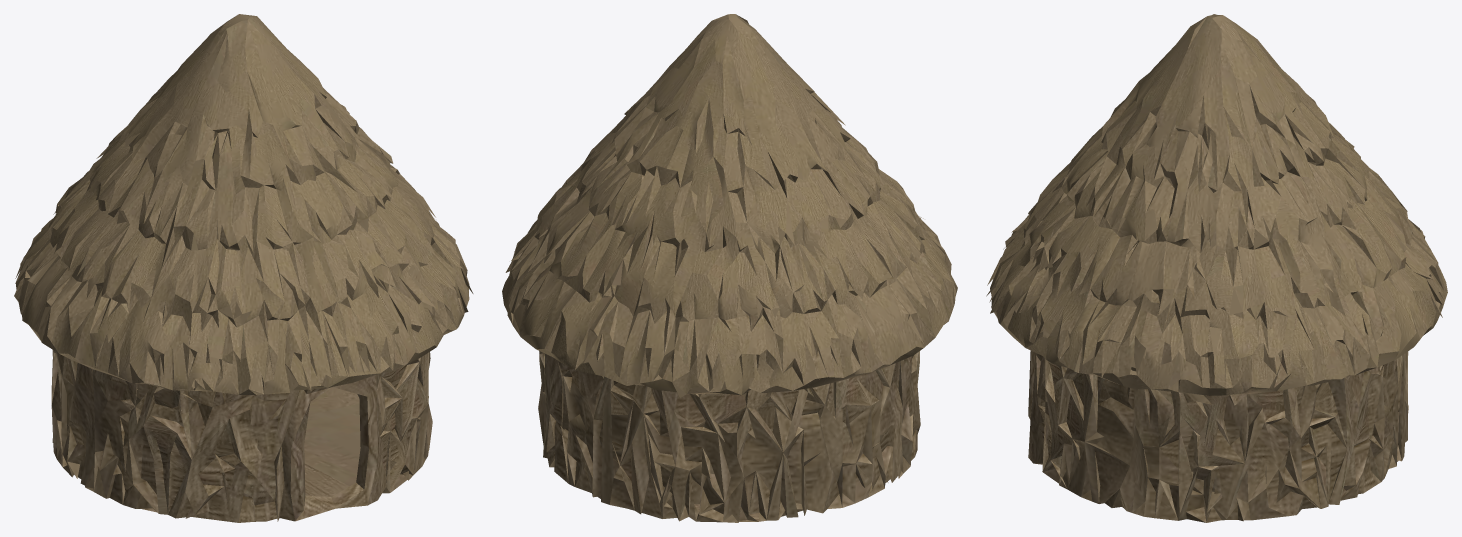
Rendered from ewokhut.glb.
3 views of the same model, side by side, from view 1: azimuth 30°, elevation 25°; view 2: azimuth 150°, elevation 25°; view 3: azimuth 270°, elevation 25° (orthographic).
Visible parts, largest first — view 1: ewokhut; view 2: ewokhut; view 3: ewokhut.
Part boxes in pixels (x1=…): ewokhut: x1=14, y1=14, x2=473, y2=522; ewokhut: x1=502, y1=14, x2=957, y2=522; ewokhut: x1=986, y1=14, x2=1447, y2=522.
Bounding box in the file's own units: 3.98 × 4.09 × 4.
1 material, 1 textured.
